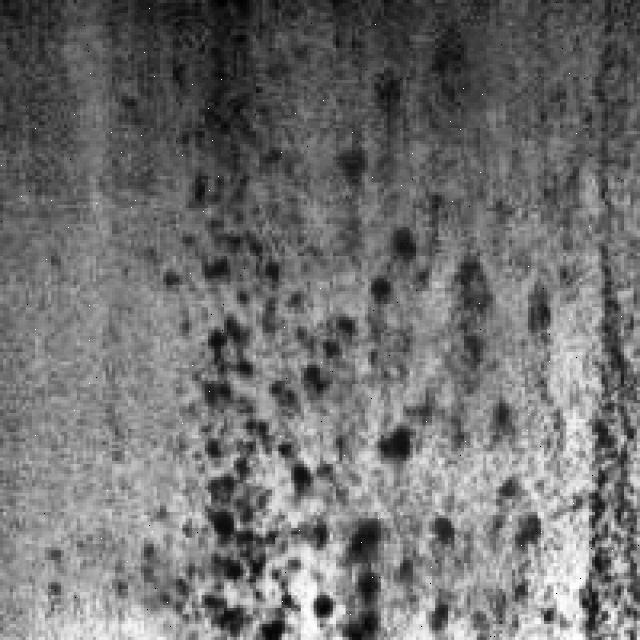Rolled_in_Scale: (150, 172, 541, 634)
